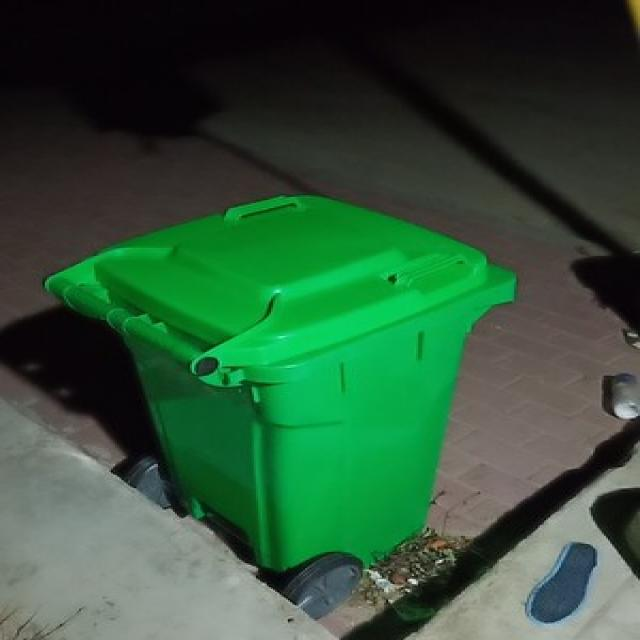ash bin: (41, 190, 514, 618)
